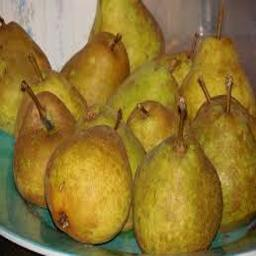Pear Semirotten: (45, 99, 134, 252), (145, 100, 225, 256), (179, 10, 256, 124), (17, 63, 81, 195), (71, 18, 141, 118)
